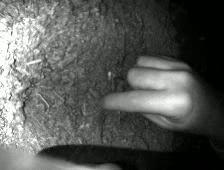corn: (107, 71, 111, 80)
